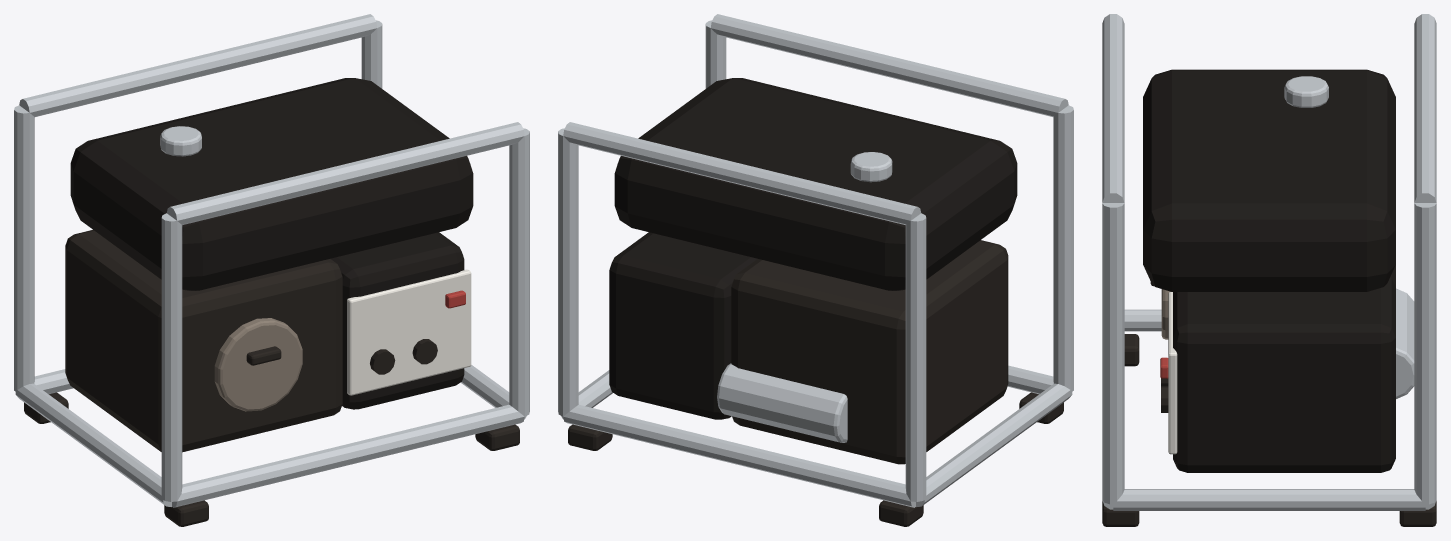
The model's file is hh_cat_generator.glb.
3 renders of one model, left to right at view 1: azimuth 30°, elevation 25°; view 2: azimuth 150°, elevation 25°; view 3: azimuth 270°, elevation 25°, orthographic. The views are drawn at different scales.
Parts seen in each view (by area): view 1: fuel_tank, engine, control_panel, alternator, frame.001, frame.005, frame, frame.002, recoil, frame.006, frame.003, frame.008 (+6 smaller); view 2: fuel_tank, engine, alternator, frame.005, frame.001, frame.004, muffler, frame.006, frame.002, frame.007, frame.008, frame.003 (+5 smaller); view 3: fuel_tank, alternator, frame.003, frame.007, frame.009, frame.001, frame.005, muffler, control_panel, fuel_cap, frame.008, foot.001 (+3 smaller).
Part boxes in pixels (box(x1,y1,x2,y2)): fuel_tank: box(70, 78, 473, 290); engine: box(65, 230, 342, 452); control_panel: box(347, 269, 471, 395); alternator: box(330, 232, 464, 409); frame.001: box(167, 122, 524, 224); frame.005: box(19, 14, 377, 116); frame: box(172, 404, 524, 507); frame.002: box(161, 213, 182, 501); recoil: box(214, 318, 302, 411); frame.006: box(14, 105, 34, 392); frame.003: box(509, 128, 529, 416); frame.008: box(15, 383, 171, 506); fuel_tank: box(614, 78, 1017, 290); engine: box(731, 240, 1008, 464); alternator: box(609, 232, 757, 419); frame.005: box(563, 122, 920, 224); frame.001: box(710, 14, 1068, 116); frame.004: box(563, 404, 915, 507); muffler: box(717, 363, 847, 442); frame.006: box(905, 213, 926, 501); frame.002: box(1053, 105, 1073, 391); frame.007: box(558, 128, 578, 416); frame.008: box(916, 383, 1072, 506); frame.003: box(705, 20, 726, 88); fuel_tank: box(1143, 69, 1395, 291); alternator: box(1173, 277, 1395, 472); frame.003: box(1102, 203, 1124, 504); frame.007: box(1414, 203, 1436, 504); frame.009: box(1113, 489, 1425, 510); frame.001: box(1102, 14, 1124, 202); frame.005: box(1414, 14, 1436, 202); muffler: box(1396, 288, 1414, 398); control_panel: box(1168, 292, 1177, 454); fuel_cap: box(1284, 76, 1328, 107); frame.008: box(1124, 309, 1161, 331); foot.001: box(1102, 501, 1139, 526).
Bounding box in the file's own units: 0.6 × 0.5 × 0.45.
